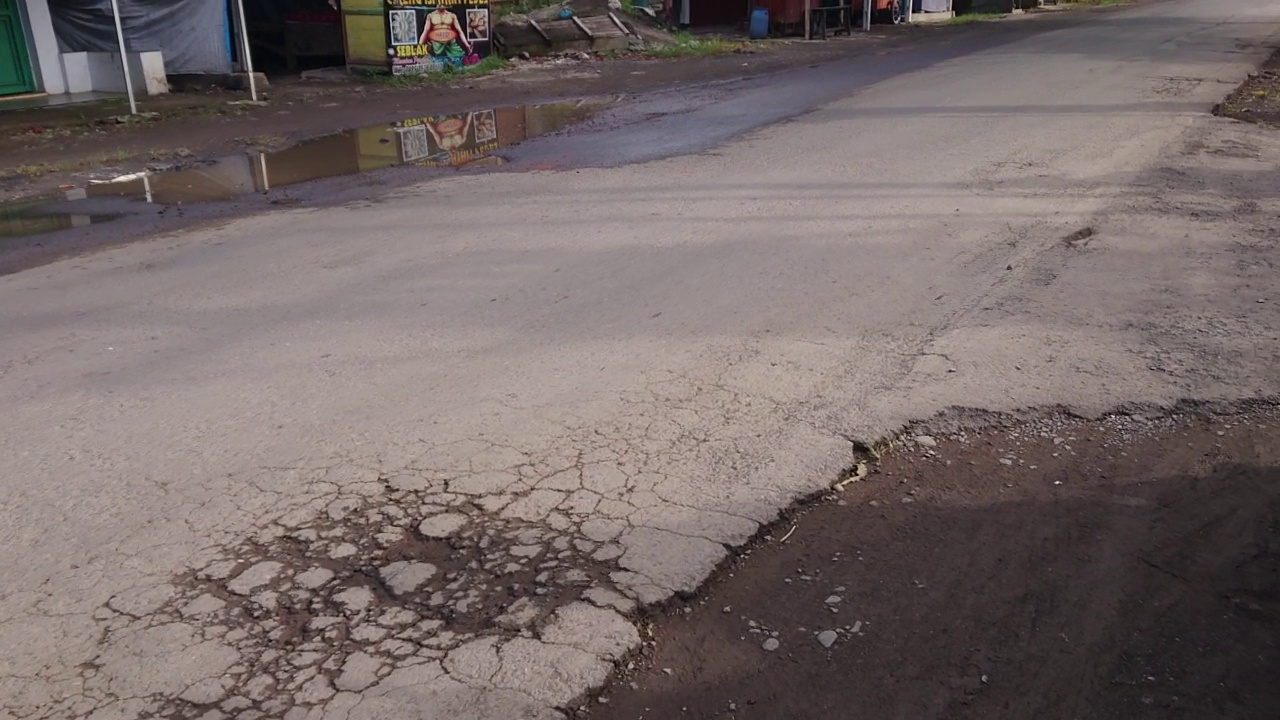Retak: (180, 443, 606, 706), (624, 355, 769, 489), (1140, 273, 1259, 394)
